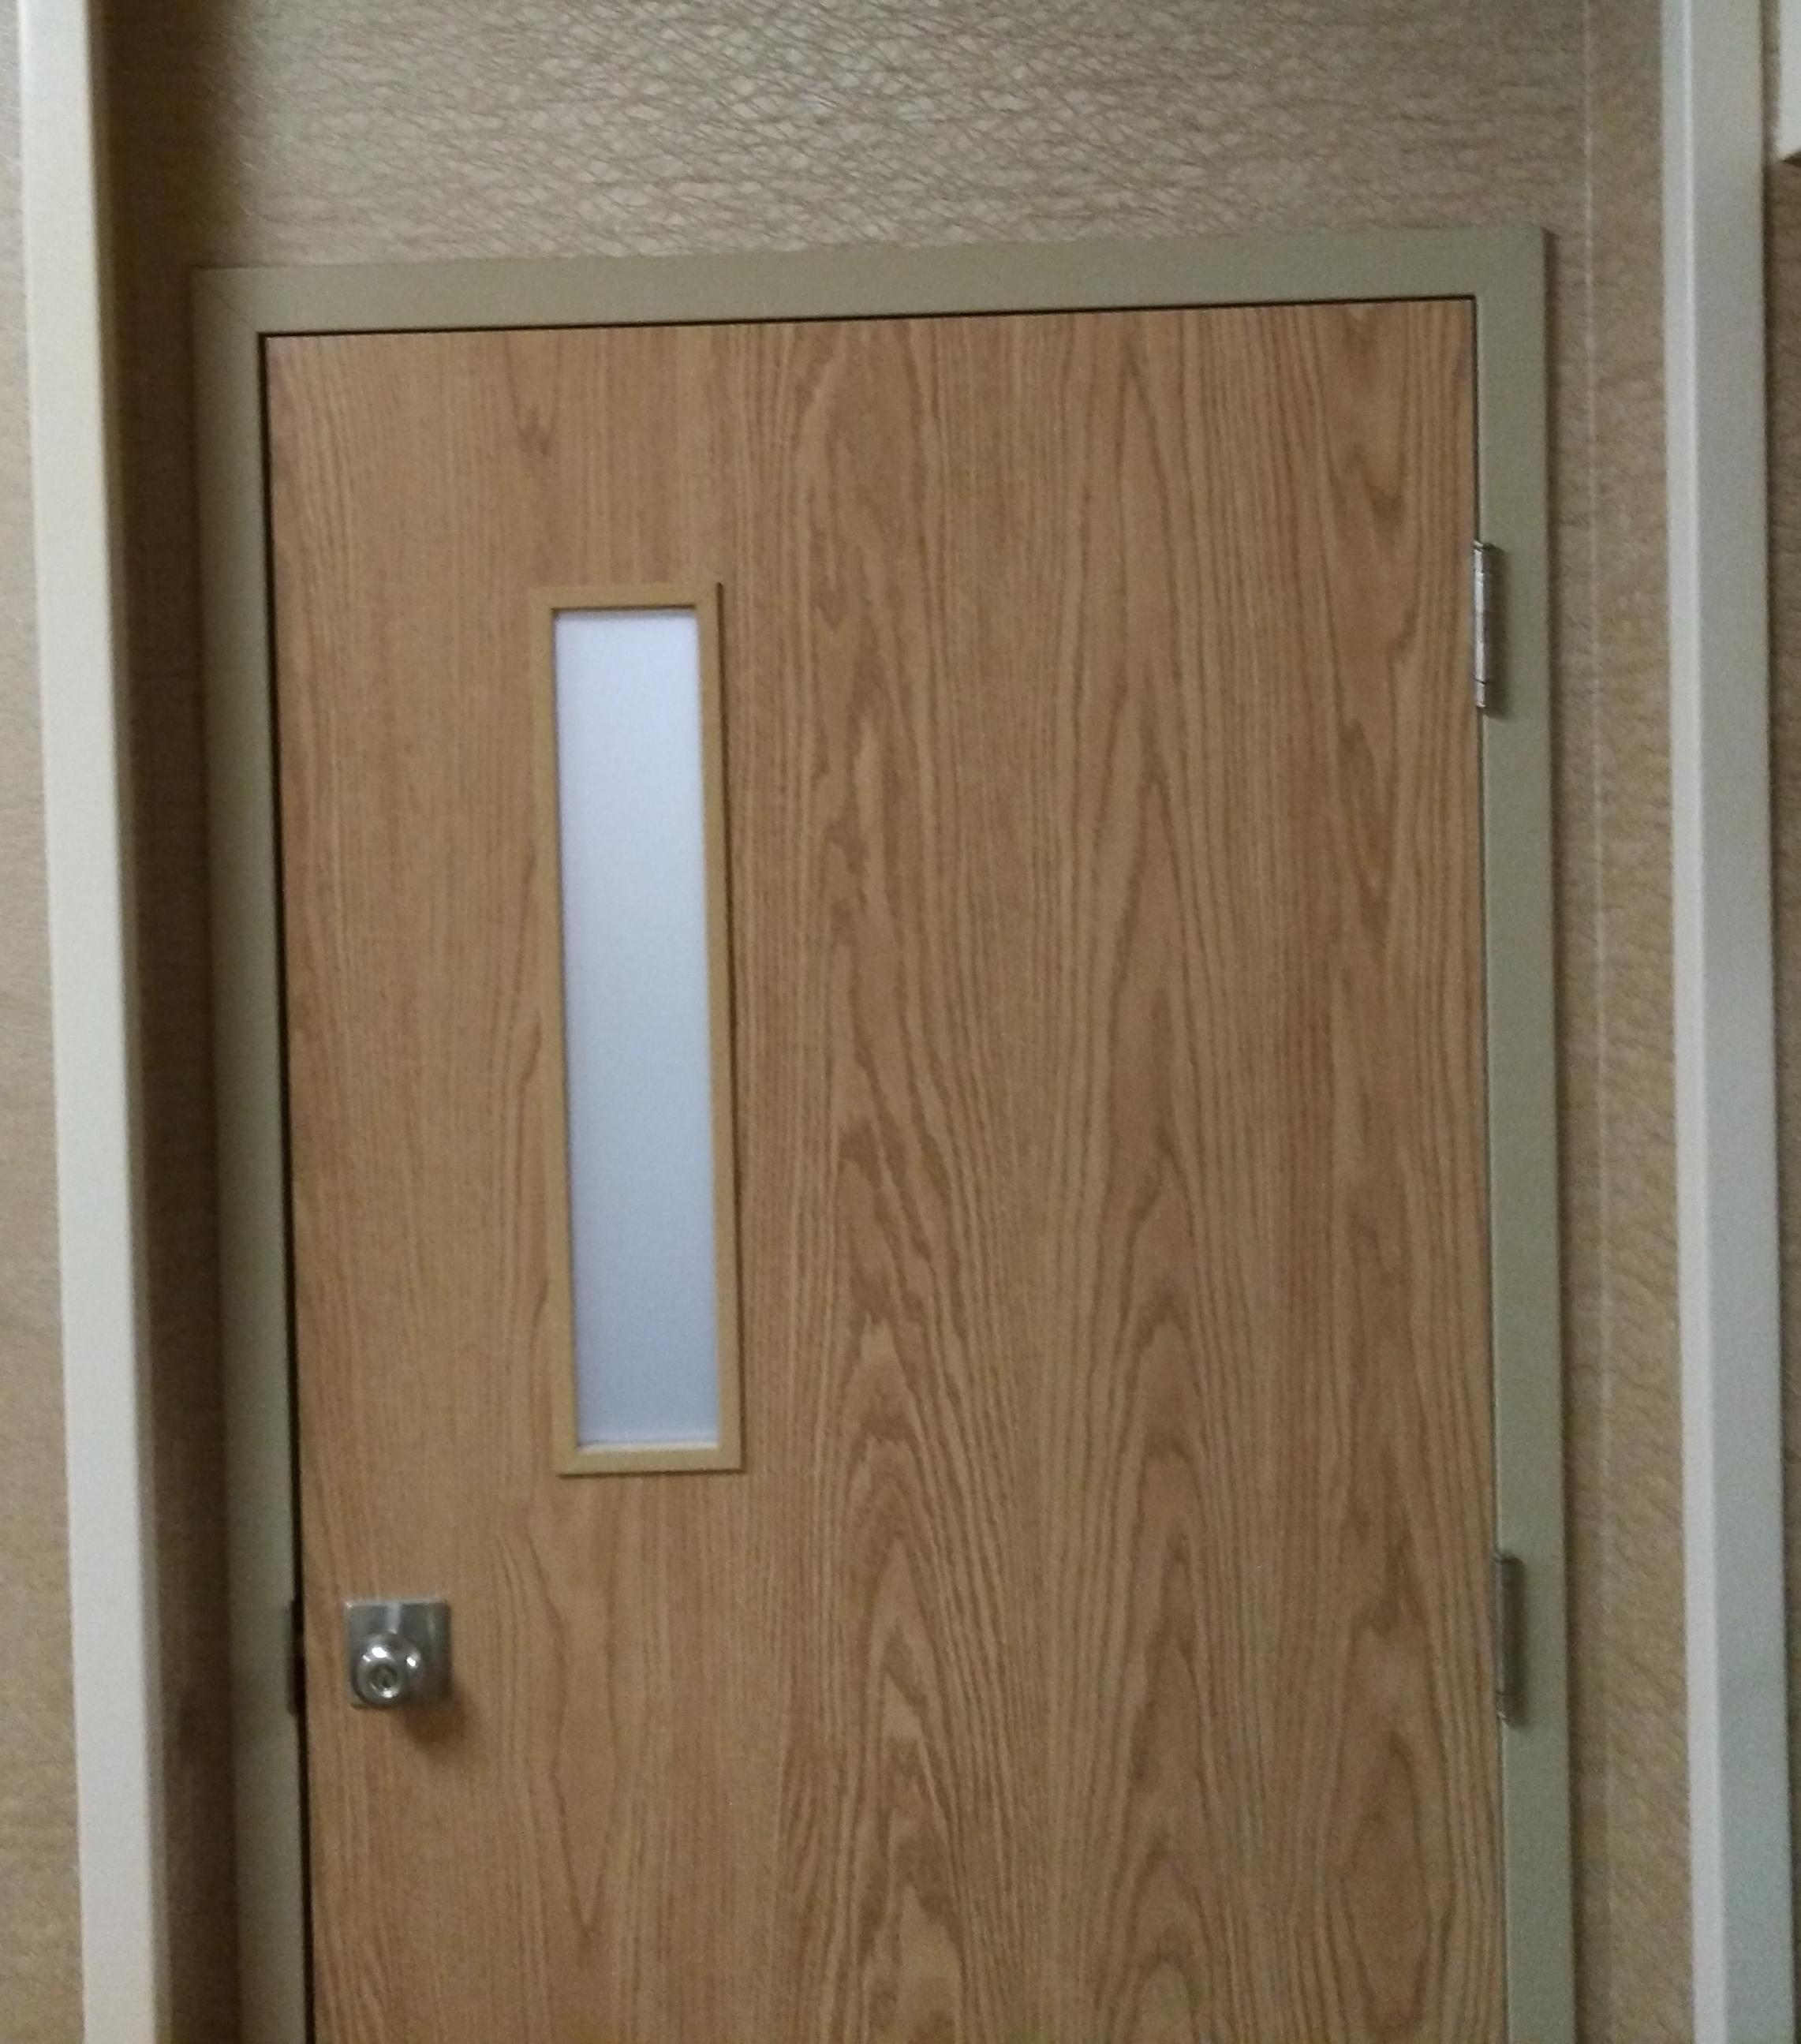handle: (342, 1613, 449, 1749)
